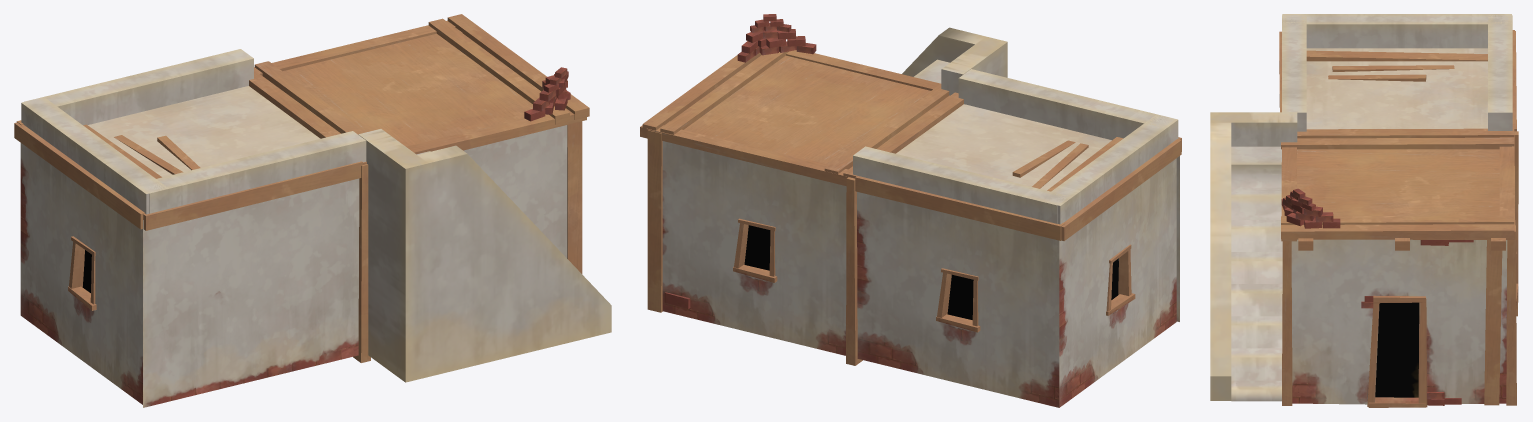
File: SM_house_2.fbx
3 views of the same model, side by side, from view 1: azimuth 30°, elevation 25°; view 2: azimuth 150°, elevation 25°; view 3: azimuth 270°, elevation 25° (orthographic). The views are drawn at different scales.
Visible parts, largest first — view 1: kit1_window_wall18, polySurface1028, polySurface1027, polySurface1022, polySurface1030, pCube1350, polySurface1056; view 2: kit1_window_wall18, polySurface1026, polySurface1020, polySurface1027, polySurface1029, pCube1350, pCube1349, polySurface1056, polySurface1057, pCube1351; view 3: kit1_window_wall18, polySurface1021, polySurface1055, polySurface1020, polySurface1022, pCube1349, polySurface1056, polySurface1029, polySurface1057, polySurface1026, pCube1351.
Part boxes in pixels (x1,y1,x2,y2): kit1_window_wall18: (20, 14, 611, 407); polySurface1028: (143, 161, 362, 230); polySurface1027: (14, 122, 145, 229); polySurface1022: (567, 121, 582, 273); polySurface1030: (353, 164, 370, 362); pCube1350: (524, 90, 556, 121); polySurface1056: (114, 135, 183, 174); kit1_window_wall18: (640, 27, 1179, 407); polySurface1026: (855, 176, 1064, 240); polySurface1020: (647, 130, 662, 312); polySurface1027: (1061, 139, 1181, 240); polySurface1029: (846, 177, 862, 365); pCube1350: (759, 29, 816, 55); pCube1349: (737, 31, 766, 62); polySurface1056: (1032, 143, 1088, 188); polySurface1057: (1012, 140, 1075, 177); pCube1351: (750, 14, 791, 32); kit1_window_wall18: (1210, 14, 1518, 407); polySurface1021: (1484, 240, 1502, 405); polySurface1055: (1306, 50, 1487, 61); polySurface1020: (1506, 225, 1516, 405); polySurface1022: (1282, 241, 1292, 405); pCube1349: (1286, 206, 1340, 228); polySurface1056: (1332, 65, 1454, 71); polySurface1029: (1514, 131, 1518, 316); polySurface1057: (1328, 74, 1426, 81); polySurface1026: (1512, 31, 1516, 131); pCube1351: (1290, 188, 1315, 210).
Bounding box in the file's own units: 9.13 × 4.47 × 5.84.
